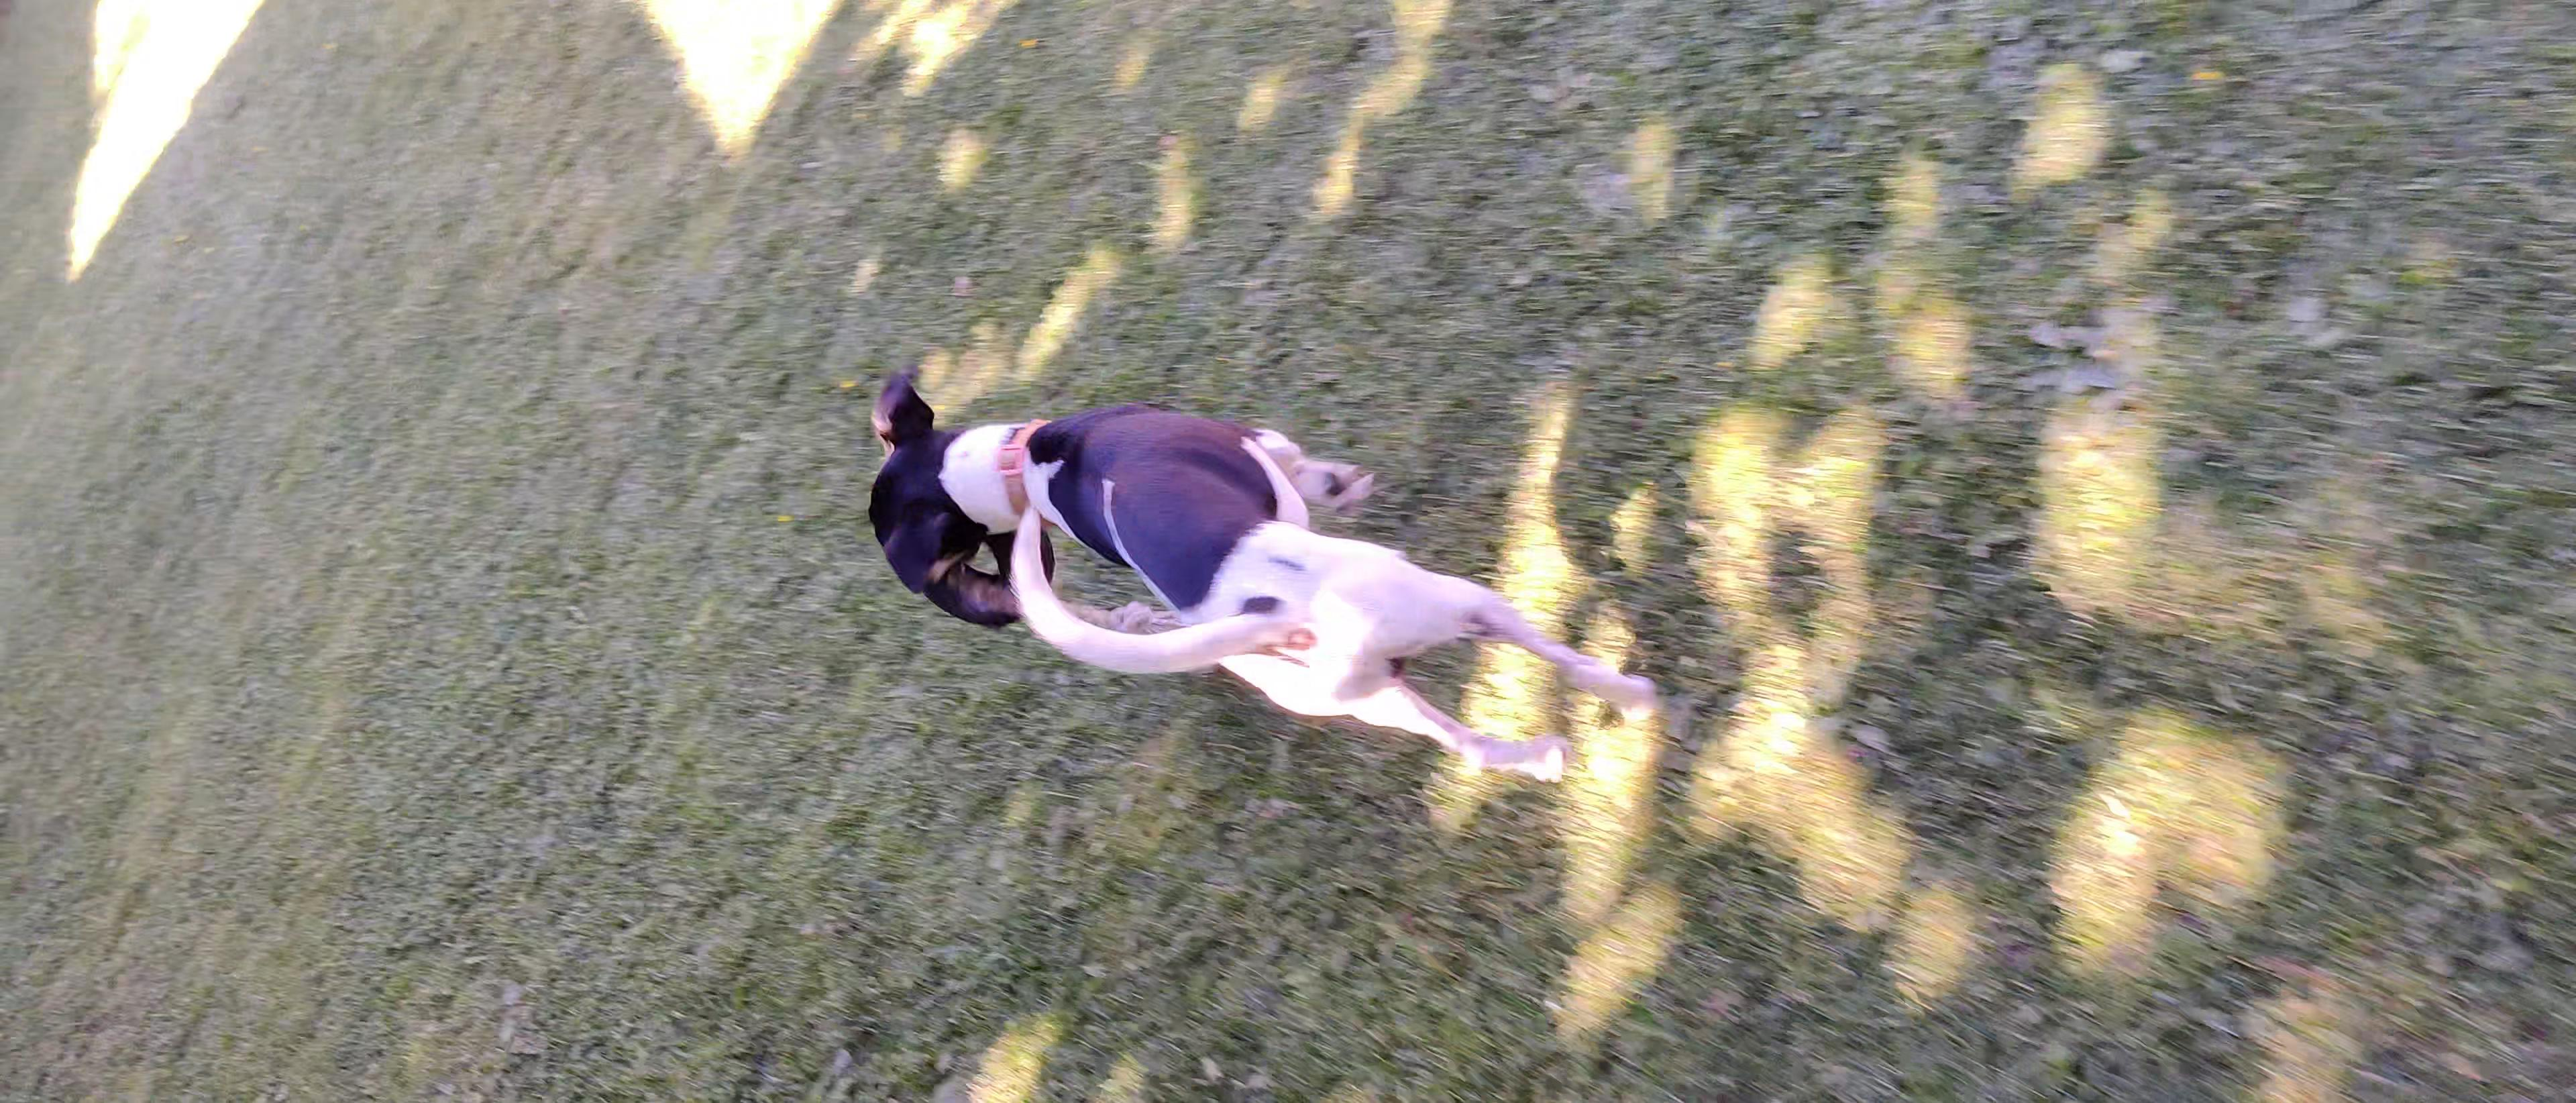Dog: (849, 352, 1677, 782)
